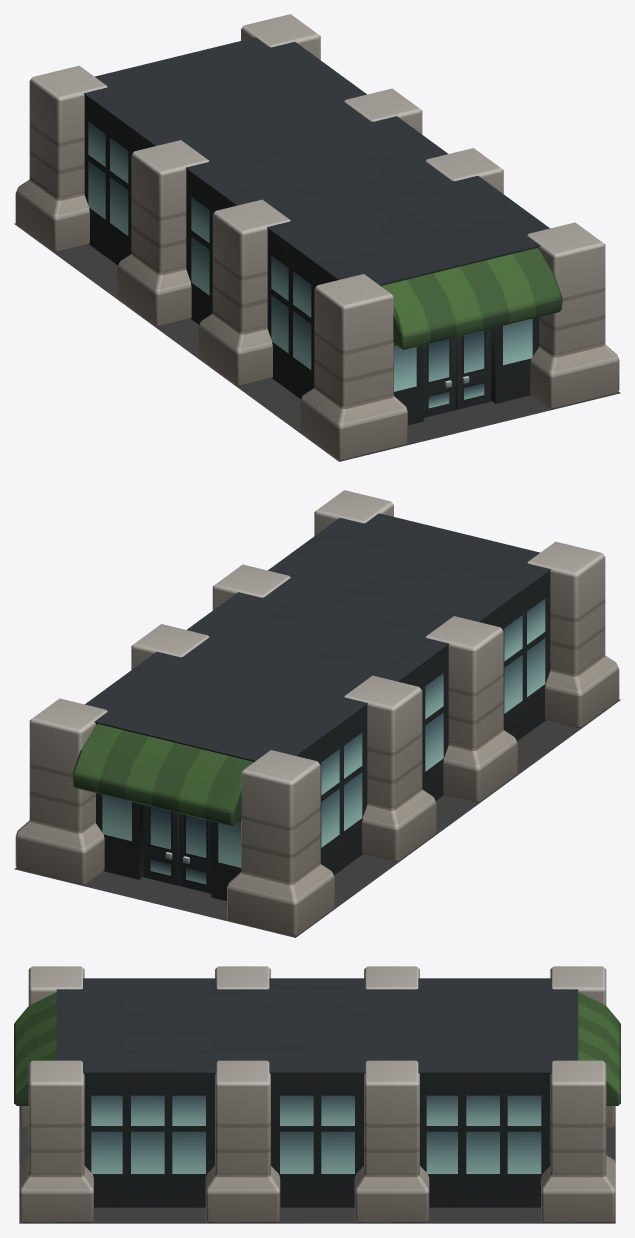
File: office_building_type2_ground_floor_brown.fbx
3 renders of one model, top to bottom at view 1: azimuth 30°, elevation 25°; view 2: azimuth 150°, elevation 25°; view 3: azimuth 270°, elevation 25°, orthographic. The views are drawn at different scales.
Visible parts, largest first — view 1: office_building_type2_ground_floor_brown, door_front_office2_right, door_front_office2_left; view 2: office_building_type2_ground_floor_brown, door_back_office2_left, door_back_office2_right; view 3: office_building_type2_ground_floor_brown.
Part boxes in pixels (x1,y1,x2,y2): office_building_type2_ground_floor_brown: (14,14,620,461); door_front_office2_right: (456,328,491,409); door_front_office2_left: (423,337,455,417); office_building_type2_ground_floor_brown: (14,490,620,937); door_back_office2_left: (143,804,178,885); door_back_office2_right: (179,813,211,893); office_building_type2_ground_floor_brown: (14,966,620,1223).
Size of the model in its own units: 800 by 409 by 1629.
